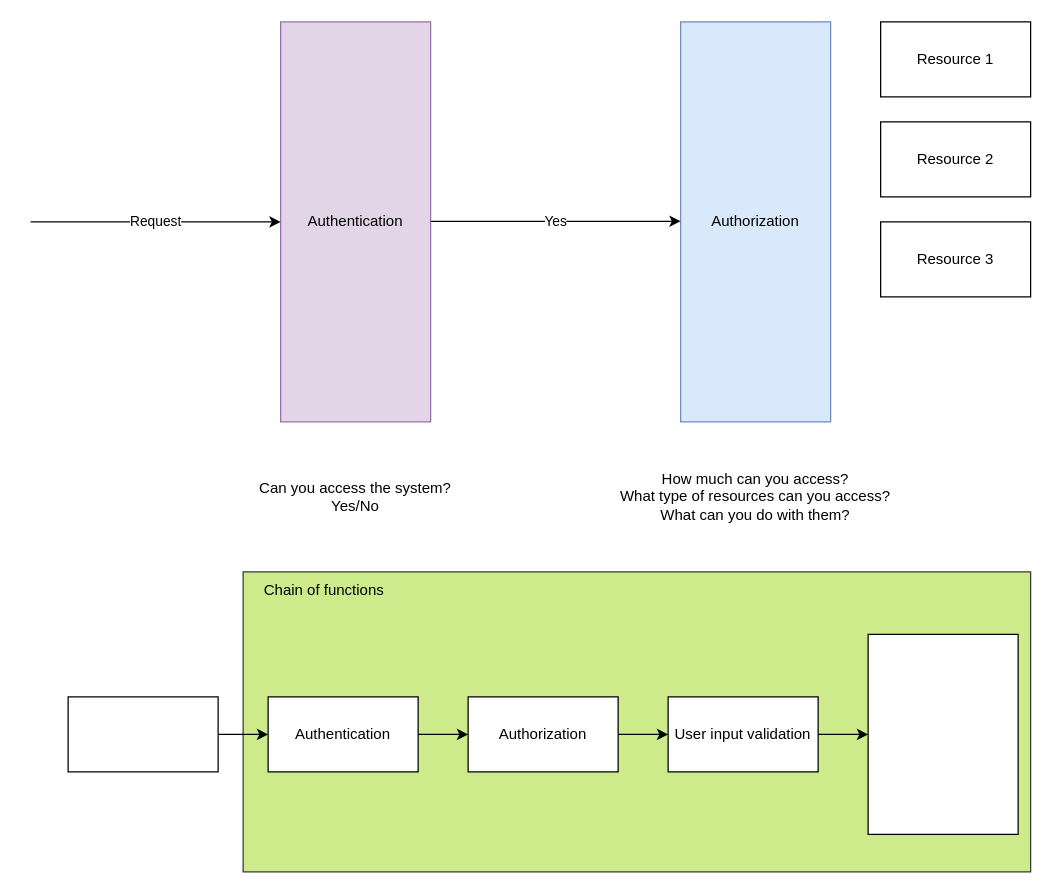
Image size: 1053x894. Some labels were removed from this diagram. Each missing label, with the centre of its shape:
/route: (x=142, y=734)
Controller: (x=942, y=733)
